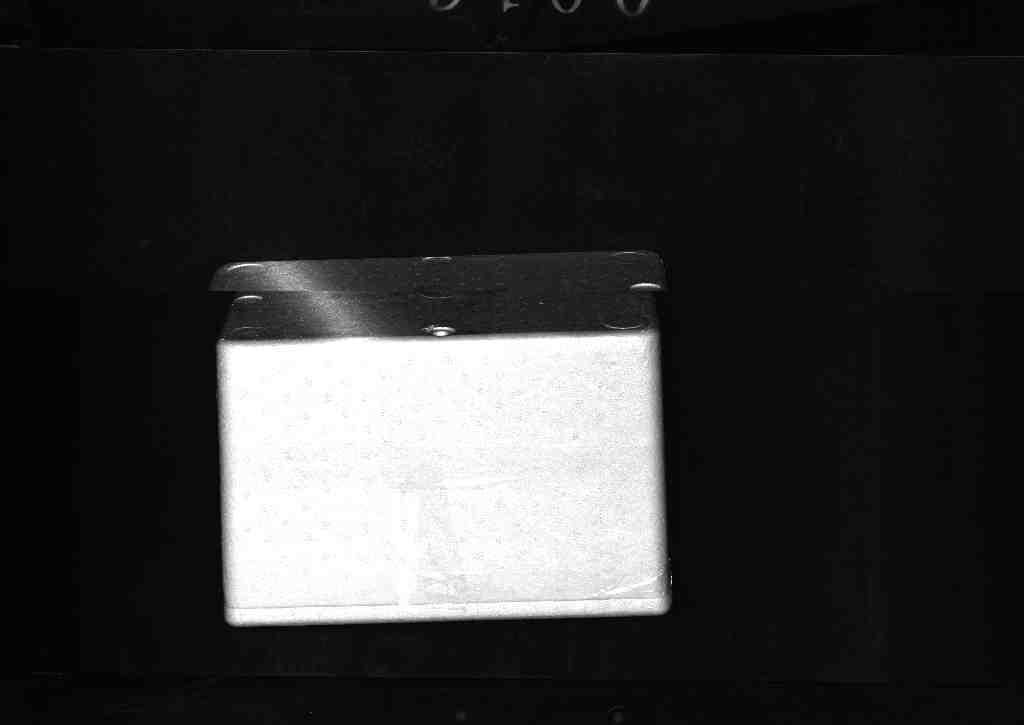box: (197, 244, 690, 627)
